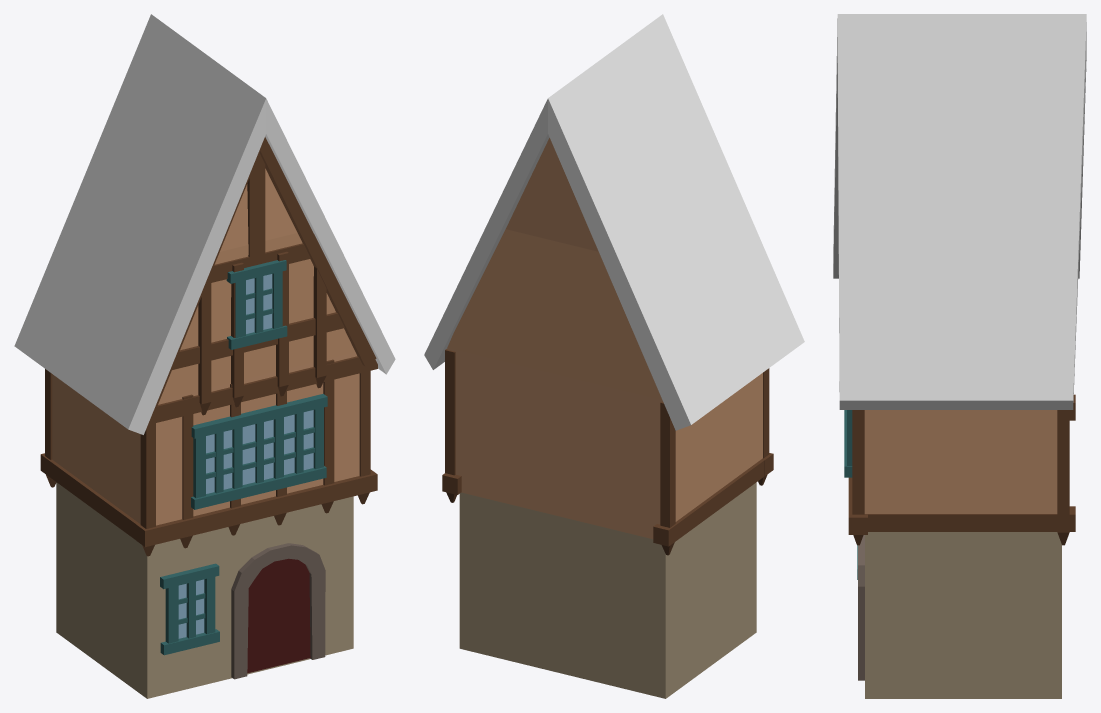
Rendered from HouseOne.fbx.
The picture shows the model from 3 angles, left to right: view 1: azimuth 30°, elevation 25°; view 2: azimuth 150°, elevation 25°; view 3: azimuth 270°, elevation 25°; orthographic projection. The views are drawn at different scales.
Visible parts, largest first — view 1: Cube.192, GroundFloor.001, SecondStory.001, Cube.194, Cube.193, Cube.168, Cube.181, Cube.169, Cube.178, Cube.189, Cube.147, Cube.179 (+27 smaller); view 2: SecondStory.001, Cube.192, GroundFloor.001, Cube.189, Cube.191, Cube.190, Cube.170; view 3: Cube.192, GroundFloor.001, SecondStory.001, Cube.188, Cube.190, Cube.171, Cube.193, Cube.168.
Part boxes in pixels (x1,y1,x2,y2): Cube.192: [14, 14, 395, 434]; GroundFloor.001: [56, 482, 353, 698]; SecondStory.001: [52, 168, 359, 525]; Cube.194: [247, 558, 310, 673]; Cube.193: [231, 543, 325, 679]; Cube.168: [136, 469, 377, 547]; Cube.181: [259, 137, 376, 366]; Cube.169: [148, 356, 377, 424]; Cube.178: [206, 410, 313, 493]; Cube.189: [40, 453, 142, 539]; Cube.147: [191, 393, 327, 438]; Cube.179: [172, 312, 344, 369]; SecondStory.001: [447, 138, 762, 539]; Cube.192: [424, 14, 804, 430]; GroundFloor.001: [459, 482, 756, 698]; Cube.189: [653, 459, 764, 546]; Cube.191: [660, 402, 675, 555]; Cube.190: [445, 349, 456, 502]; Cube.170: [758, 368, 769, 485]; Cube.192: [833, 14, 1086, 409]; GroundFloor.001: [865, 532, 1061, 698]; SecondStory.001: [864, 410, 1057, 513]; Cube.188: [868, 506, 1075, 531]; Cube.190: [1057, 410, 1069, 545]; Cube.171: [852, 410, 864, 545]; Cube.193: [858, 535, 864, 680]; Cube.168: [848, 477, 867, 534].
Size of the model in its own units: 176 by 363 by 132.
